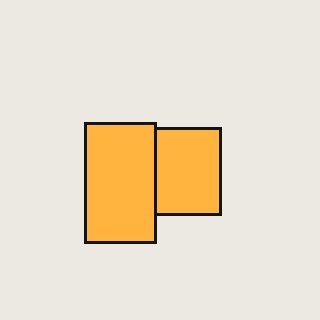square_target: (85, 123, 157, 244), (152, 127, 222, 216)
